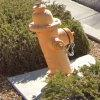a fire hydrant: (29, 2, 78, 80)
